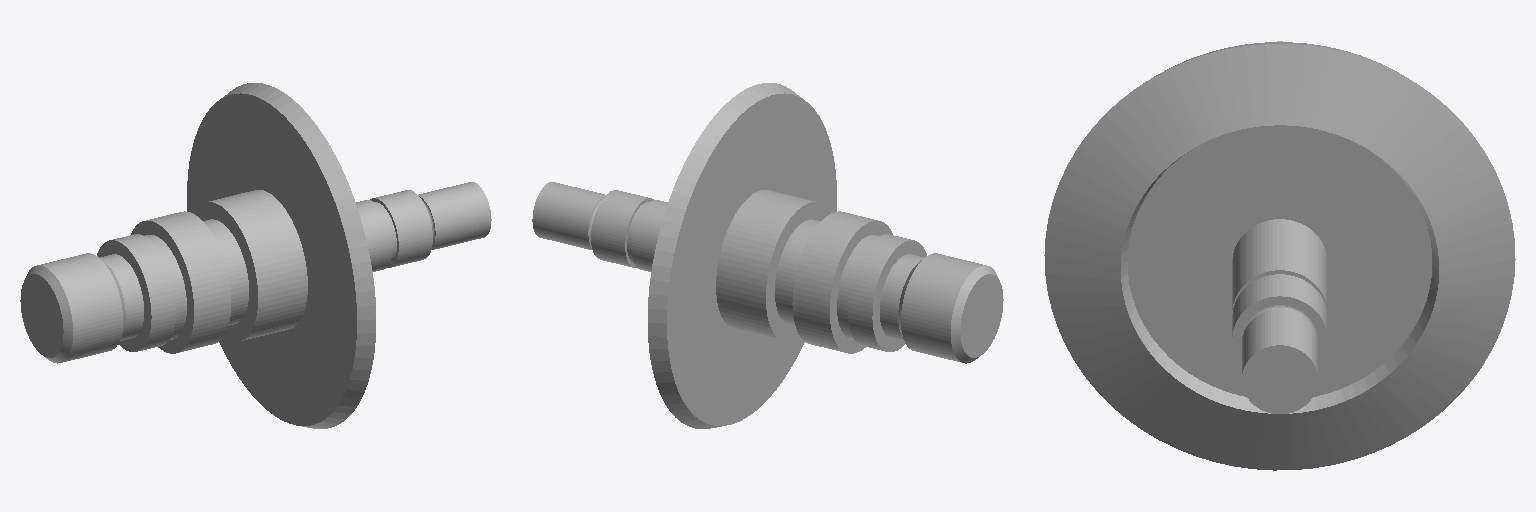
The robot description file, URDF, robot "grinder":
<?xml version="1.0" ?>
<robot name="grinder">
  <link name="baseLink">
    <contact>
      <lateral_friction value="5.0"/>
      <rolling_friction value="5.3"/>
      <contact_cfm value="1.3"/>
      <contact_erp value="1.8"/>
      <damping value="500.0"/>
    </contact>
    <inertial>
      <origin rpy="0 0 0" xyz="0 0 0.0"/>
       <mass value="0.001"/>
       <inertia ixx="1" ixy="0" ixz="0" iyy="1" iyz="0" izz="5"/>
    </inertial>
    <visual>
      <origin rpy="0 0 0" xyz="30 0 0"/>
      <geometry>
		<mesh filename="mesh/noname_axle.stl"/>
      </geometry>
       <material name="grey">
        <color rgba="0.75 0.75 0.75 1"/>
      </material>
    </visual>
    <collision>
      <origin rpy="0 0 0" xyz="30 0 0"/>
      <geometry>
        <mesh filename="mesh/noname_axle.stl"/>
      </geometry>
    </collision>
  </link>
</robot>

--- Render facts (derived) ---
3 views of the same robot in one strip: view 1: azimuth 30°, elevation 25°; view 2: azimuth 150°, elevation 25°; view 3: azimuth 270°, elevation 25° (orthographic).
Model grinder with 1 links and 0 joints (none), rooted at baseLink, posed every joint at zero.
Visible links, largest first — view 1: baseLink; view 2: baseLink; view 3: baseLink.
Link boxes in pixels (x1,y1,x2,y2): baseLink: [20, 83, 491, 428]; baseLink: [532, 83, 1003, 428]; baseLink: [1044, 41, 1515, 470].
Bounding box of the posed robot: 70 × 49.42 × 49.4 m (x, y, z).
Meshes: 1 distinct files referenced, 1 mesh visuals loaded (1 binary STL).